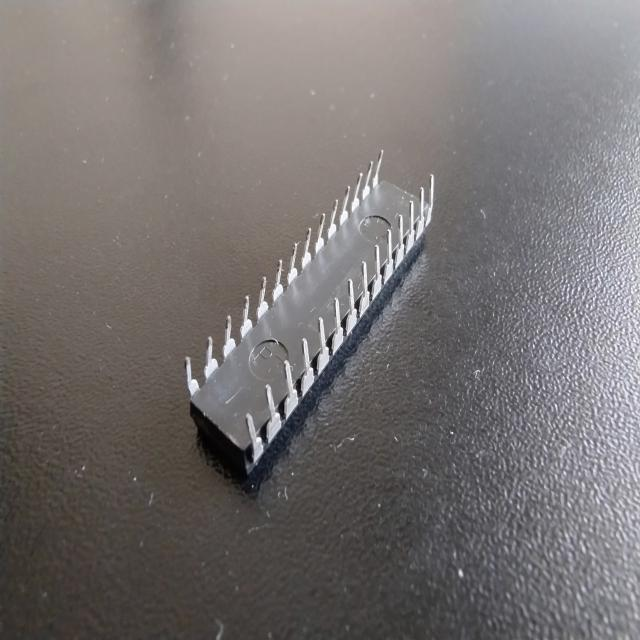atmega: (182, 147, 437, 484)
